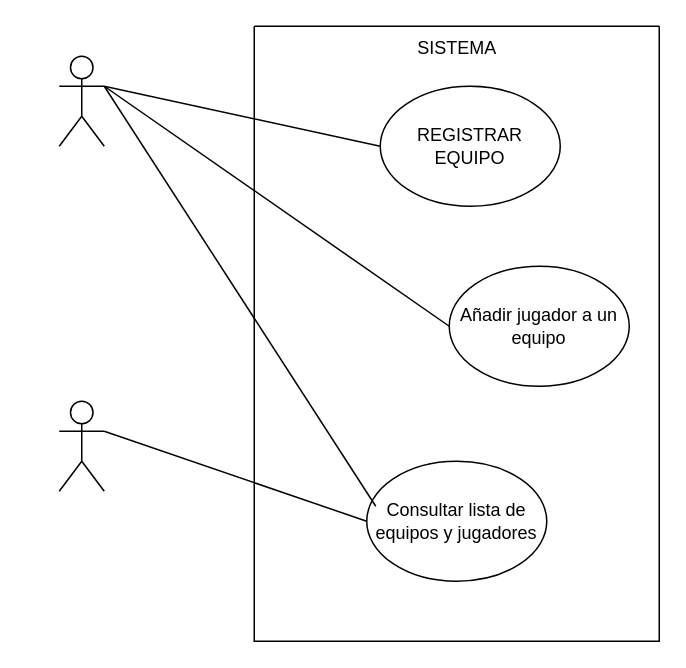
Image size: 686x668. Some labels were removed from this diagram. The centre of each missing label's shape, as x and y in pixels:
"Administrador" belongs at pixel 81 100.
"Jugador" belongs at pixel 81 445.
